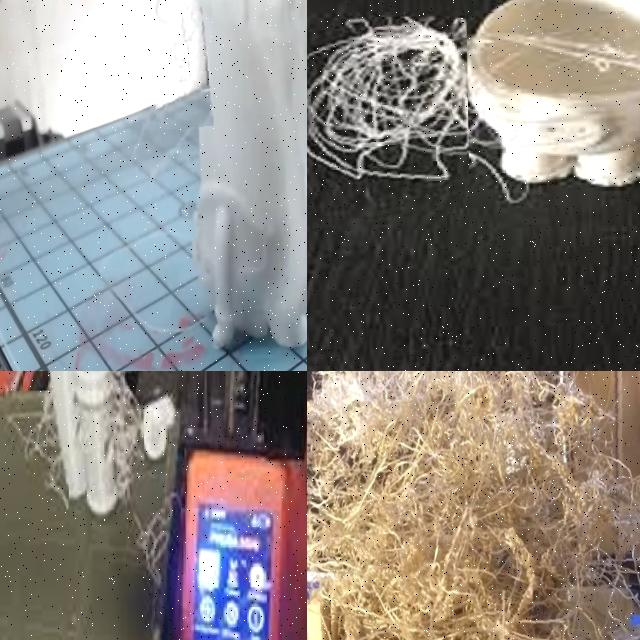spaghetti: (307, 371, 640, 640), (307, 15, 470, 227), (137, 0, 213, 131), (4, 390, 69, 540), (127, 424, 170, 586)
